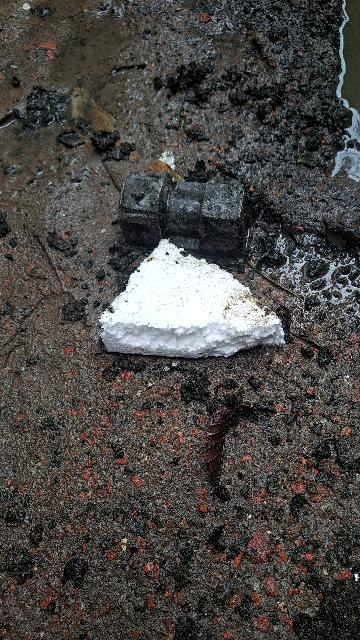cocksheet: (92, 184, 314, 397)
